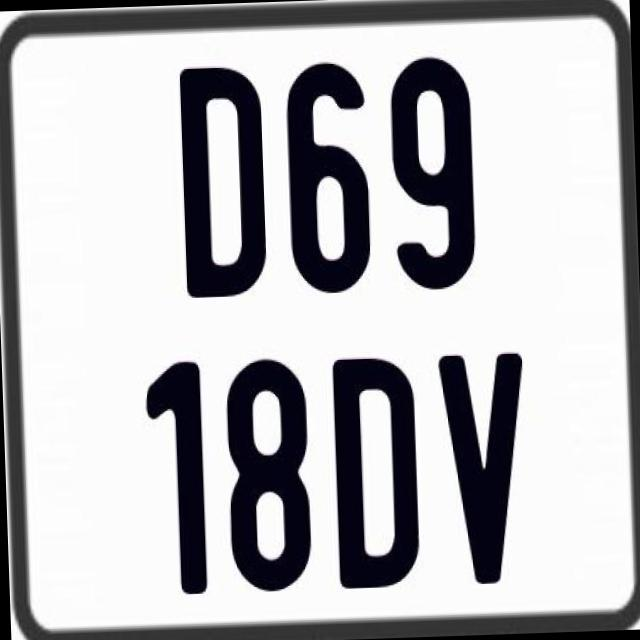1: (140, 360, 208, 604)
6: (284, 57, 378, 291)
8: (220, 356, 314, 598)
9: (388, 50, 478, 294)
D: (328, 357, 416, 597), (178, 66, 266, 301)
V: (433, 348, 528, 582)
